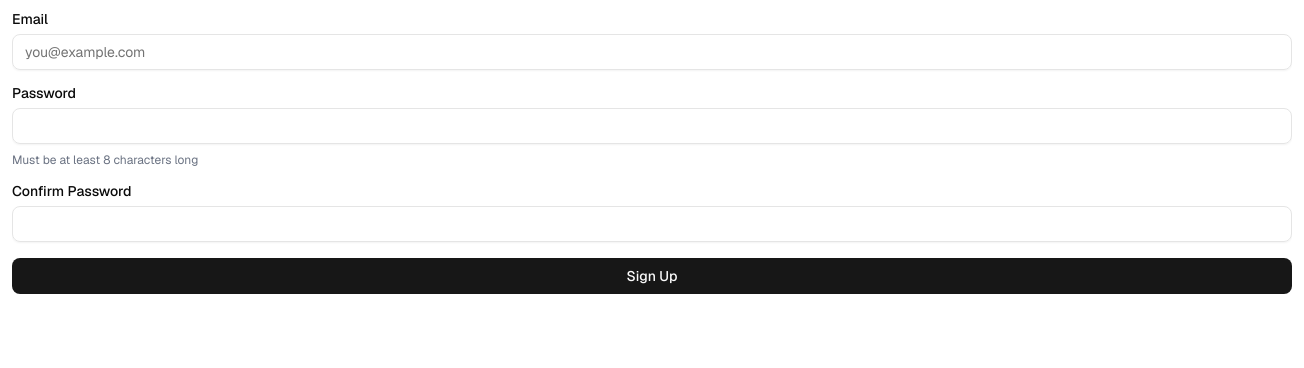
shows error message on failed sign up
In the field labelled "Email": (652, 52) [12,34,1292,70], type "existing@example.com"
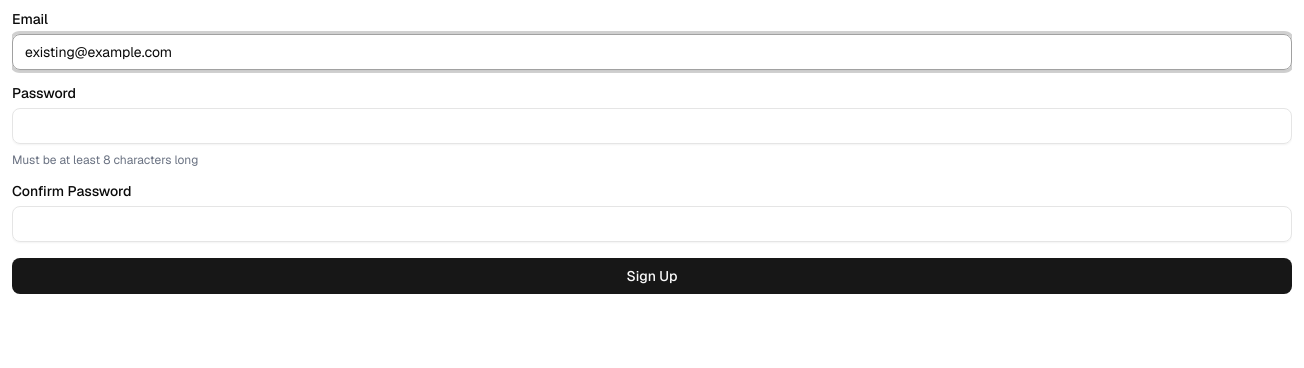
In the password field labelled "Password": (652, 126) [12,108,1292,144], type "password123"
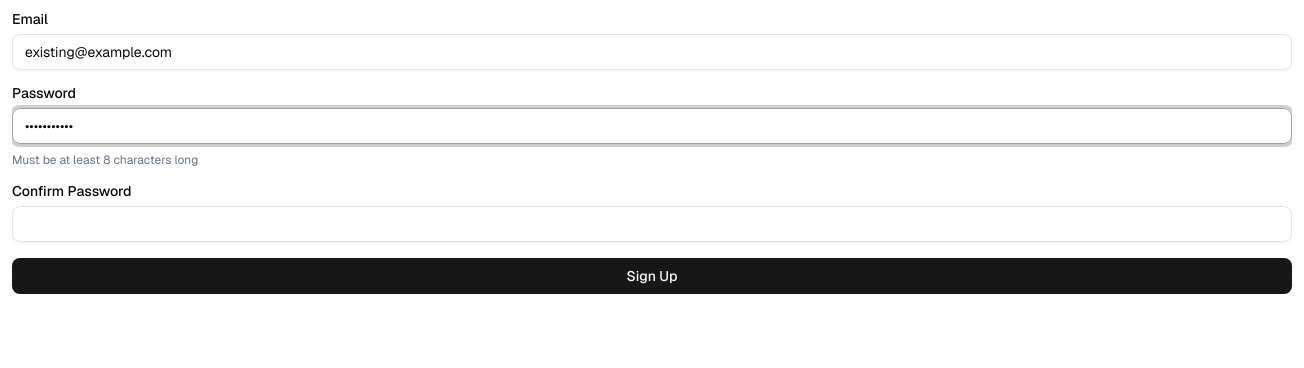
In the password field labelled "Confirm Password": (652, 224) [12,206,1292,242], type "password123"
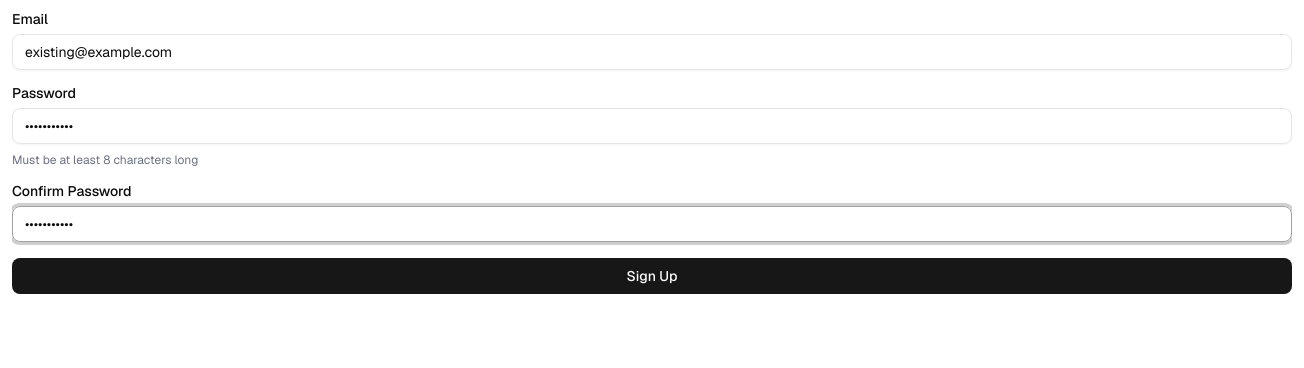
Click the button "Sign Up": (652, 276) [12,258,1292,294]
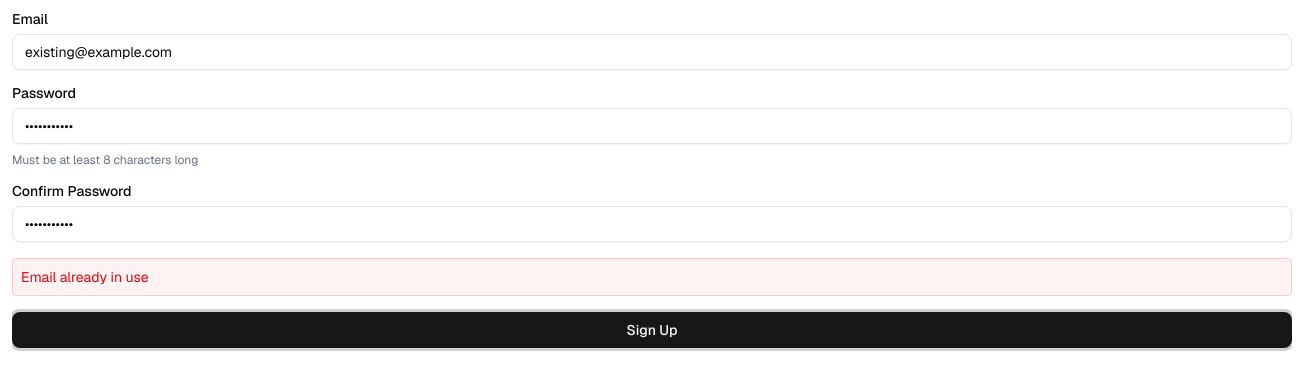
Expected: the text "Email already in use" is shown, [12,258,1292,296]
